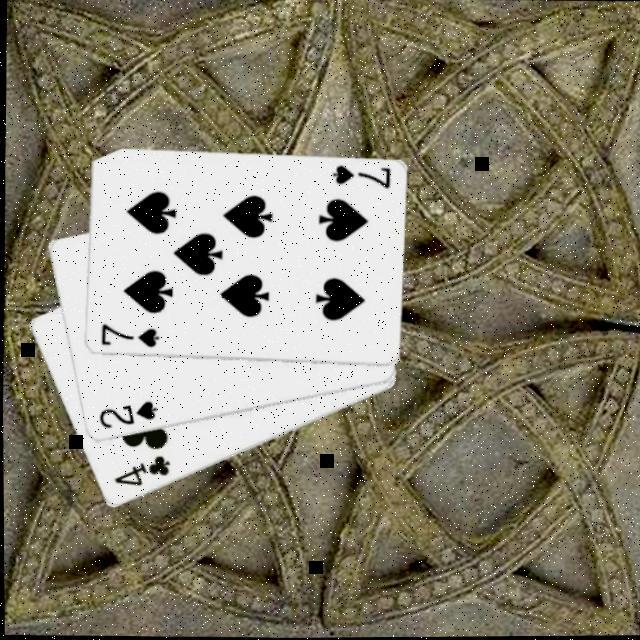2S: (92, 399, 157, 434)
4C: (108, 453, 170, 492)
7S: (94, 323, 158, 353), (326, 164, 390, 193)
